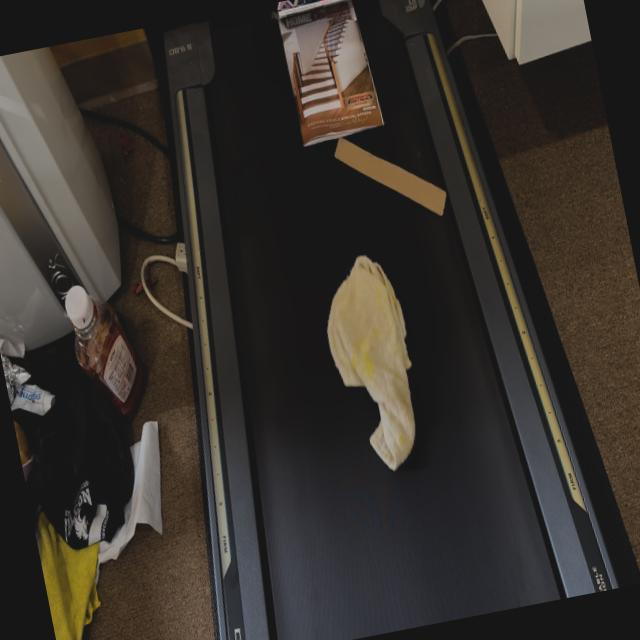Recycle: (331, 123, 462, 254), (267, 0, 392, 131)
Trash: (312, 241, 460, 517)
